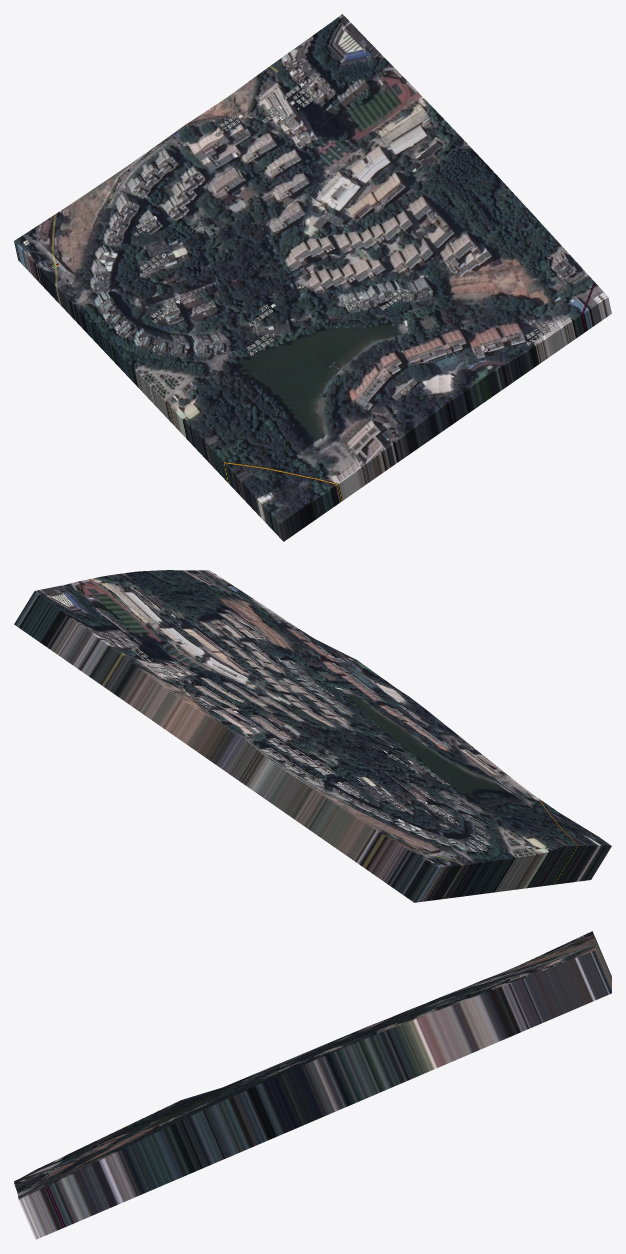
The picture shows the model from 3 angles, top to bottom: view 1: azimuth 30°, elevation 25°; view 2: azimuth 150°, elevation 25°; view 3: azimuth 270°, elevation 25°; orthographic projection. The views are drawn at different scales.
Visible parts, largest first — view 1: 0_2_25; view 2: 0_2_25; view 3: 0_2_25.
Part boxes in pixels (<box>): 0_2_25: <box>14,14,611,541</box>; 0_2_25: <box>14,570,611,902</box>; 0_2_25: <box>14,931,611,1239</box>.
Size of the model in its own units: 609 by 465 by 562.
1 material, 1 textured.
